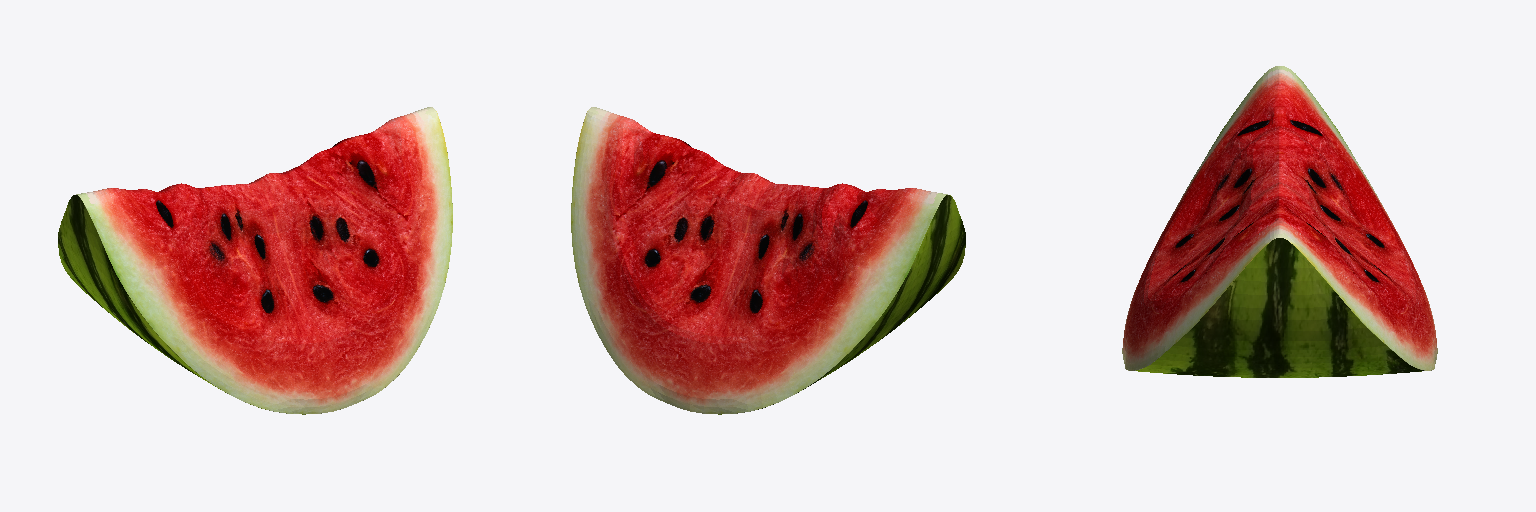
3 renders of one model, left to right at view 1: azimuth 30°, elevation 25°; view 2: azimuth 150°, elevation 25°; view 3: azimuth 270°, elevation 25°, orthographic.
Visible parts, largest first — view 1: Level_2; view 2: Level_2; view 3: Level_2.
Part boxes in pixels (left/top/right/bottom): Level_2: left=58, top=107, right=452, bottom=414; Level_2: left=571, top=107, right=965, bottom=414; Level_2: left=1122, top=66, right=1437, bottom=377.
Bounding box in the file's own units: 18.82 × 10.64 × 14.45.
1 materials, 1 textured.